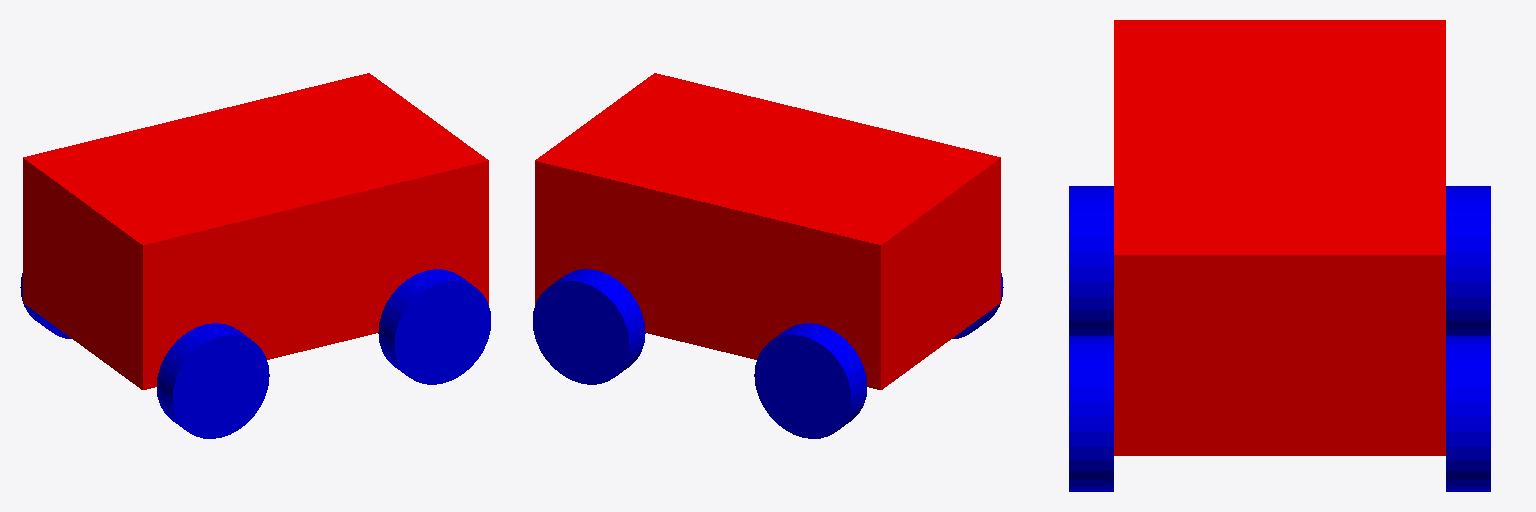
robot.urdf — ugv:
<?xml version="1.0" encoding="UTF-8"?>
<robot name="ugv">
            <material name="Green">
                <color rgba="0.0 1.0 0.0 1.0"/>
            </material>
            <material name="Red">
                <color rgba="1.0 0.0 0.0 1.0"/>
            </material>
            <material name="Blue">
                <color rgba="0.0 0.0 1.0 1.0"/>
            </material>
    <link name="base_link">
        <visual>
            <material name="Red"/>
            <geometry>
                <box size="0.5 0.3 0.2"/>
            </geometry>
            <origin xyz="0.0 0.0 0.17" rpy="0.0 0.0 0.0"/>

        </visual>
            <collision>
                <geometry>
                <box size="0.5 0.3 0.2"/>                    
                </geometry>
                <origin xyz="0.0 0.0 0.17" rpy="0.0 0.0 0.0"/>
            </collision>        
    </link>
    
    <link name="right_back_wheel">
        <visual>
                <geometry>
                    <cylinder radius="0.07 " length="0.04"/>
                </geometry>
                <origin xyz="0.0 0.0 0.0" rpy="1.5708 0.0 0.0"/>
                <material name="Blue"/>
        </visual>
    <collision>
        <geometry>
            <cylinder radius="0.07" length="0.04"/>
        </geometry>

        <origin xyz="0 0 0" rpy="1.5708 0 0"/>
    </collision>        
        
    </link>

    <joint name="right_back_wheel_joint" type="continuous">
        <origin xyz="-0.16 -0.17 0.07" rpy="0.0 0.0 0.0"/>
        <parent link="base_link"/>
        <child link="right_back_wheel"/>
        <axis xyz="0 1 0"/>
    </joint>

    <link name="right_front_wheel">
        <visual>
                <geometry>
                    <cylinder radius="0.07 " length="0.04"/>
                </geometry>
                <origin xyz="0.0 0.0 0.0" rpy="1.5708 0.0 0.0"/>
                <material name="Blue"/>
        </visual>
    <collision>
        <geometry>
            <cylinder radius="0.07" length="0.04"/>
        </geometry>

        <origin xyz="0 0 0" rpy="1.5708 0 0"/>
    </collision>        
        
    </link>

    <joint name="right_front_wheel_joint" type="continuous">
        <origin xyz="0.16 -0.17 0.07" rpy="0.0 0.0 0.0"/>
        <parent link="base_link"/>
        <child link="right_front_wheel"/>
        <axis xyz="0.0 1.0 0.0"/>
    </joint>


    <link name="left_back_wheel">
        <visual>
                <geometry>
                    <cylinder radius="0.07 " length="0.04"/>
                </geometry>
                <origin xyz="0.0 0.0 0.0" rpy="1.5708 0.0 0.0"/>
                <material name="Blue"/>
        </visual>
    <collision>
        <geometry>
            <cylinder radius="0.07" length="0.04"/>
        </geometry>

        <origin xyz="0 0 0" rpy="1.5708 0 0"/>
    </collision>        
        
    </link>

    <joint name="left_back_wheel_joint" type="continuous">
        <origin xyz="-0.16 0.17 0.07" rpy="0.0 0.0 0.0"/>
        <parent link="base_link"/>
        <child link="left_back_wheel"/>
        <axis xyz="0.0 1.0 0.0"/>
    </joint>


        <link name="left_front_wheel">
        <visual>
                <geometry>
                    <cylinder radius="0.07 " length="0.04"/>
                </geometry>
                <origin xyz="0.0 0.0 0.0" rpy="1.5708 0.0 0.0"/>
                <material name="Blue"/>
        </visual>
    <collision>
        <geometry>
            <cylinder radius="0.07" length="0.04"/>
        </geometry>

        <origin xyz="0 0 0" rpy="1.5708 0 0"/>
    </collision>        
        
    </link>

    <joint name="left_front_wheel_joint" type="continuous">
        <origin xyz="0.16 0.17 0.07" rpy="0.0 0.0 0.0"/>
        <parent link="base_link"/>
        <child link="left_front_wheel"/>
        <axis xyz="0.0 1.0 0.0"/>
    </joint>

</robot>

--- What the picture shows (computed from the rendered views, not written in the file) ---
The picture shows the robot from 3 angles, left to right: view 1: azimuth 30°, elevation 25°; view 2: azimuth 150°, elevation 25°; view 3: azimuth 270°, elevation 25°; orthographic projection.
Model ugv with 5 links and 4 joints (4 continuous), rooted at base_link, posed all joints at 0.
Links seen in each view (by area): view 1: base_link, right_back_wheel, right_front_wheel; view 2: base_link, left_back_wheel, left_front_wheel; view 3: base_link, right_front_wheel, left_front_wheel, right_back_wheel, left_back_wheel.
Link boxes in pixels (x1,y1,x2,y2): base_link: [23, 73, 488, 389]; right_back_wheel: [157, 323, 269, 438]; right_front_wheel: [378, 269, 490, 384]; base_link: [535, 73, 1000, 389]; left_back_wheel: [754, 323, 866, 438]; left_front_wheel: [533, 269, 645, 384]; base_link: [1114, 20, 1445, 455]; right_front_wheel: [1069, 336, 1113, 491]; left_front_wheel: [1446, 336, 1490, 491]; right_back_wheel: [1069, 186, 1113, 335]; left_back_wheel: [1446, 186, 1490, 335].
Bounding box of the posed robot: 0.5 × 0.38 × 0.27 m (x, y, z).
Geometry: primitives only (box / cylinder / sphere), no mesh files.
